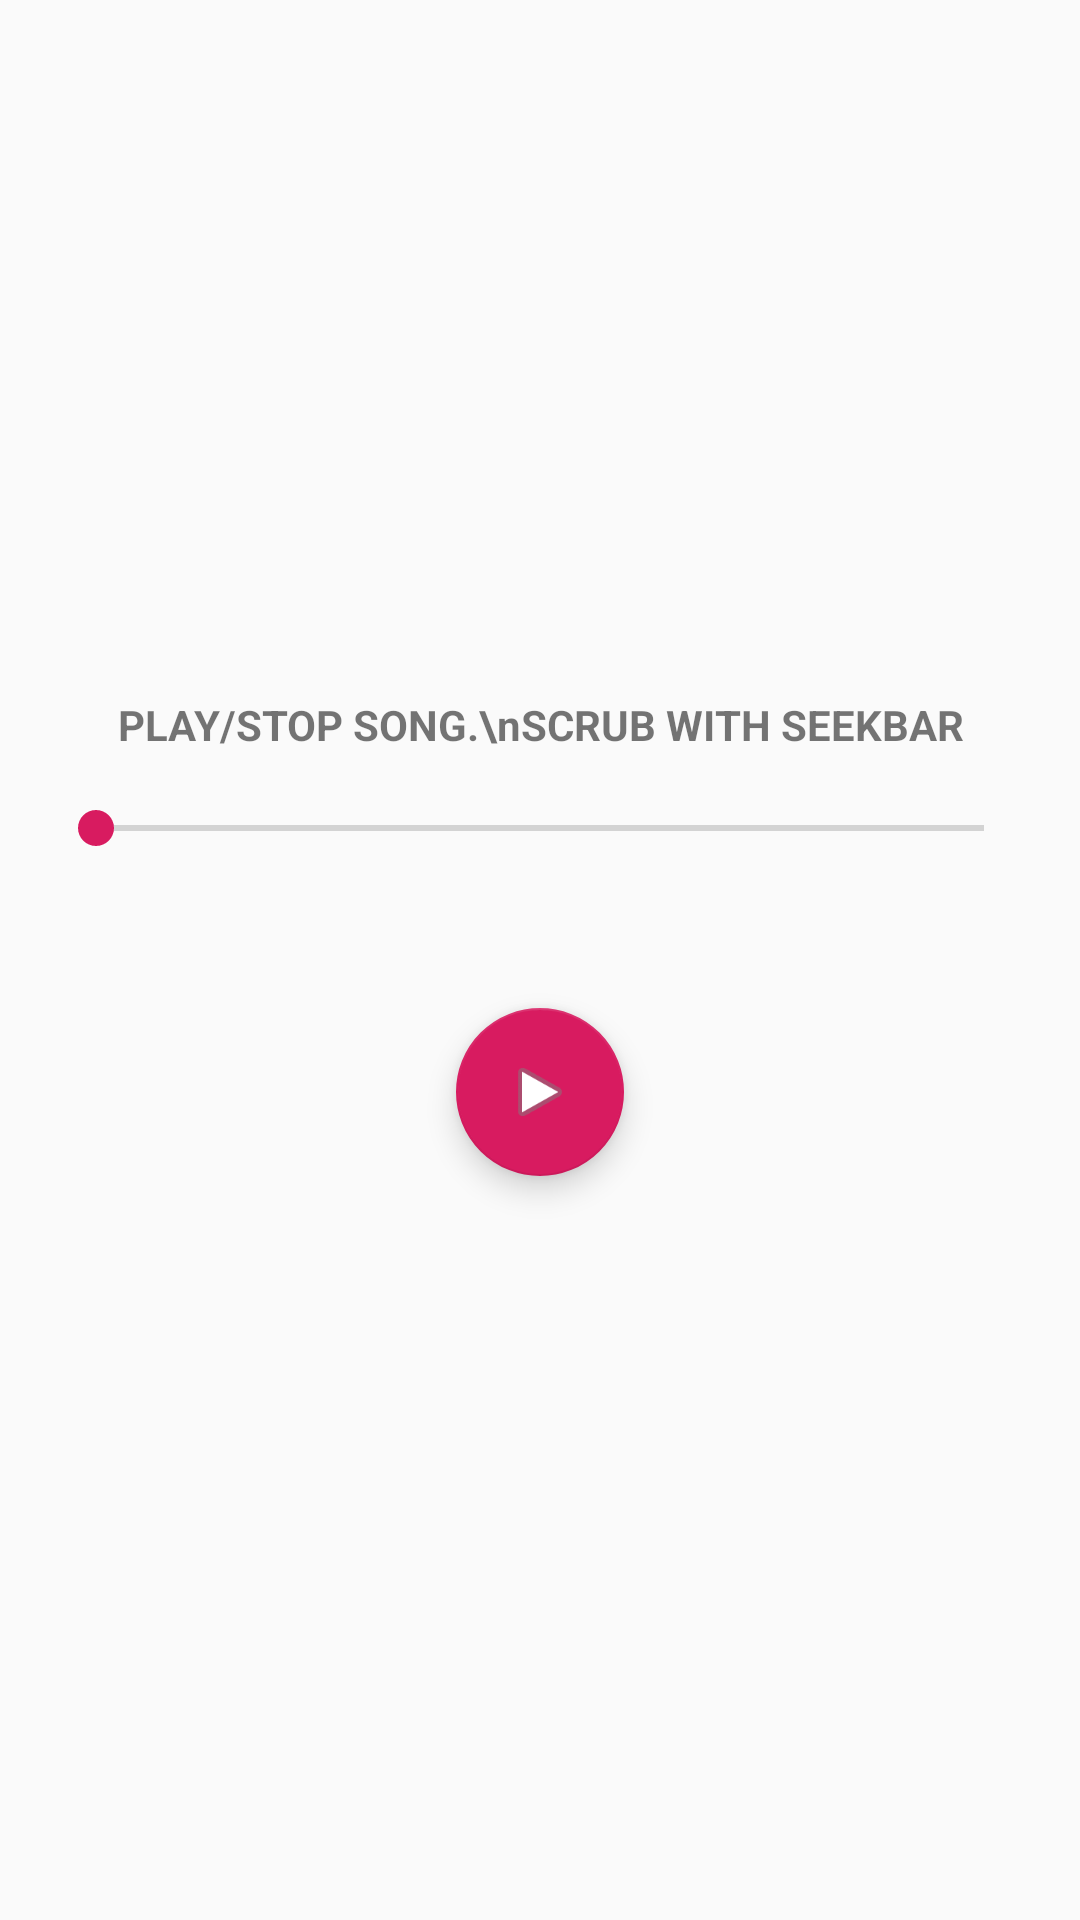

Screen size 1080 × 1920. Icon name, then its box in pixels as (x1, y1, x2, y2):
play: (456, 1008, 624, 1176)
